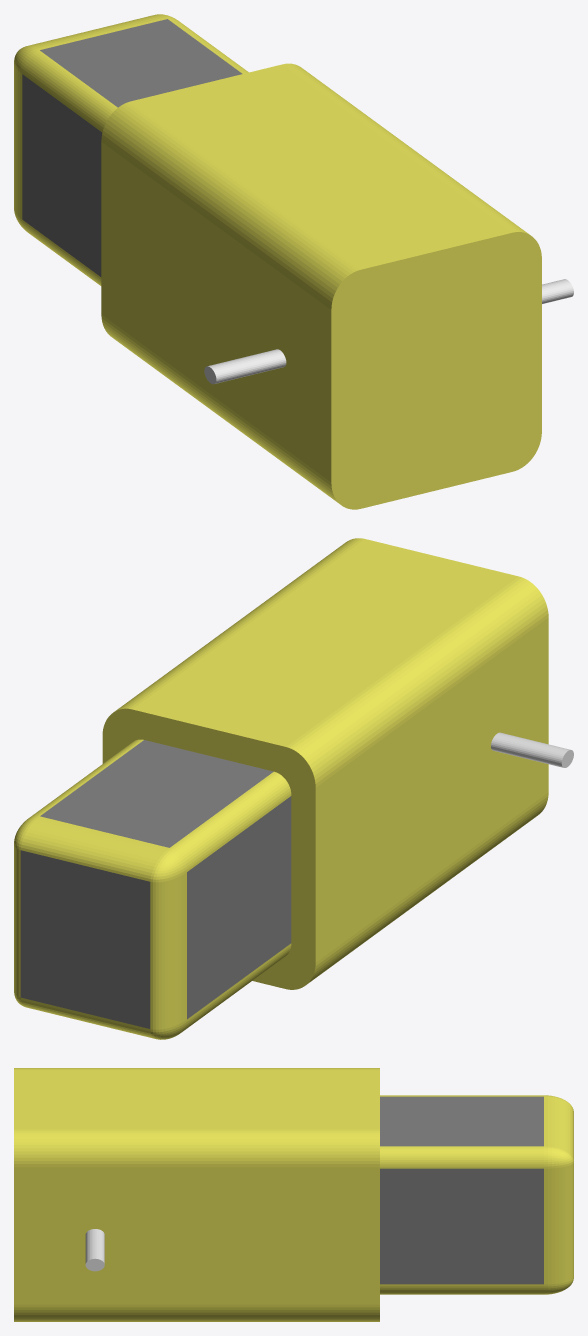
Rendered from motor.glb.
3 views of the same model, one above another, from view 1: azimuth 30°, elevation 25°; view 2: azimuth 150°, elevation 25°; view 3: azimuth 270°, elevation 25° (orthographic). The views are drawn at different scales.
Visible parts, largest first — view 1: Cube, Cylinder; view 2: Cube, Cylinder; view 3: Cube, Cylinder.
Part boxes in pixels (x1,y1,x2,y2): Cube: (14, 14, 541, 509); Cylinder: (204, 279, 573, 384); Cube: (14, 538, 548, 1039); Cylinder: (491, 732, 573, 767); Cube: (14, 1068, 573, 1321); Cylinder: (85, 1229, 104, 1271).
Size of the model in its own units: 0.7527 by 0.481 by 1.28.
